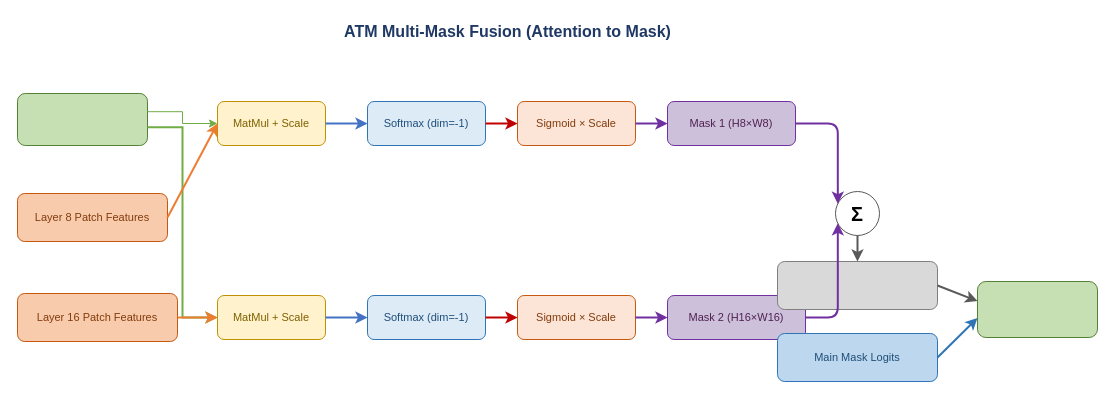
Image size: 1115x399. Some labels were removed from this diagram. Here are the shapes that lost their labels. From the top down, the centre of each, then its label:
point 82,119: ATM Query
point 857,285: Interpolate (to target size)
point 1037,309: Final Mask
